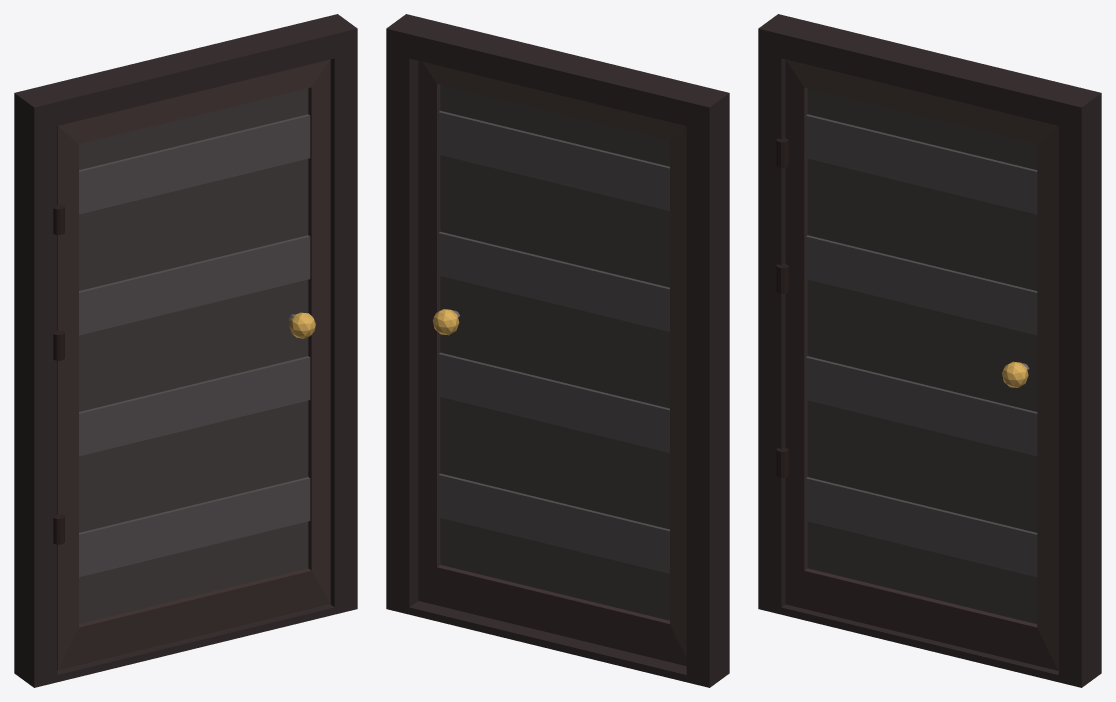
Rendered from door.fbx.
The picture shows the model from 3 angles, left to right: view 1: azimuth 30°, elevation 25°; view 2: azimuth 150°, elevation 25°; view 3: azimuth 330°, elevation 25°; orthographic projection.
Visible parts, largest first — view 1: door-moveable, door-frame, door-handle; view 2: door-moveable, door-frame, door-handle; view 3: door-moveable, door-frame, door-handle.
Boxes of the visible parts, box(x1,y1,x2,y2) form: door-moveable: box(53, 59, 330, 670); door-frame: box(14, 14, 357, 687); door-handle: box(288, 312, 315, 338); door-moveable: box(418, 60, 686, 666); door-frame: box(386, 14, 729, 687); door-handle: box(433, 309, 459, 335); door-moveable: box(776, 59, 1058, 670); door-frame: box(758, 14, 1101, 687); door-handle: box(1002, 361, 1029, 387).
Size of the model in its own units: 1.4 by 0.3002 by 2.4.
1 material, 1 textured.
